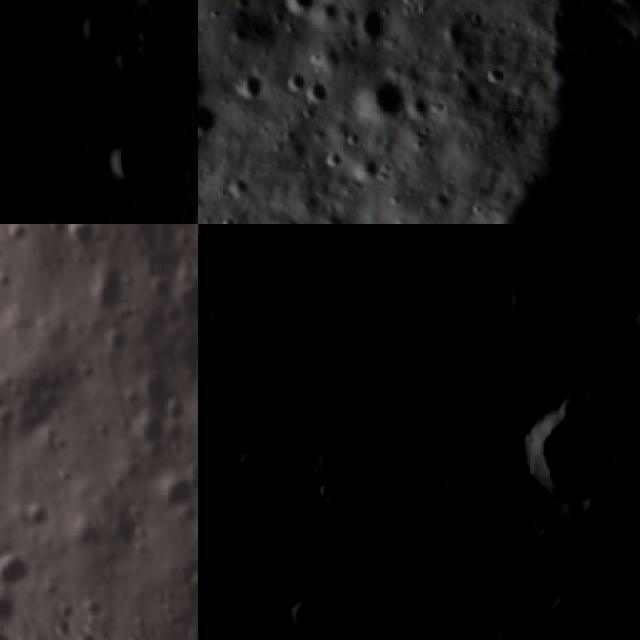crater: (511, 399, 624, 510), (431, 443, 512, 551), (541, 576, 613, 640), (100, 130, 162, 200), (62, 2, 123, 73), (143, 460, 198, 531), (77, 259, 137, 323), (342, 74, 408, 124), (121, 406, 178, 456), (485, 609, 561, 640), (0, 541, 39, 601), (281, 593, 328, 640), (86, 327, 134, 373), (227, 444, 270, 488), (98, 0, 172, 22), (0, 577, 40, 617), (354, 4, 396, 41), (232, 66, 264, 103), (183, 503, 198, 569), (0, 224, 36, 251), (271, 0, 315, 21), (46, 205, 88, 224), (317, 143, 345, 169), (187, 345, 198, 407), (479, 65, 507, 89), (198, 97, 216, 134), (280, 70, 310, 92), (354, 158, 379, 184), (212, 205, 237, 224), (307, 80, 326, 102), (282, 208, 303, 224), (257, 220, 277, 224), (239, 220, 256, 224)
